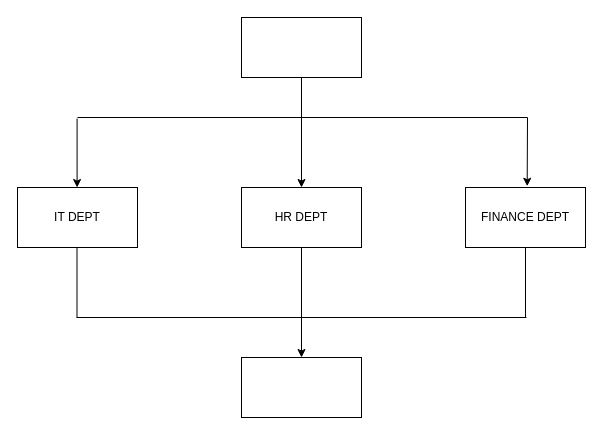
Some shapes in this 603 by 435 pixel diagram are drawn without their labels. The box of each missing label's shape, as (x1, y1, x2, y2) in pixels:
CHIEF EXECUTIVE OFFICER: (240, 16, 362, 78)
SALES DEPT: (240, 356, 362, 418)
